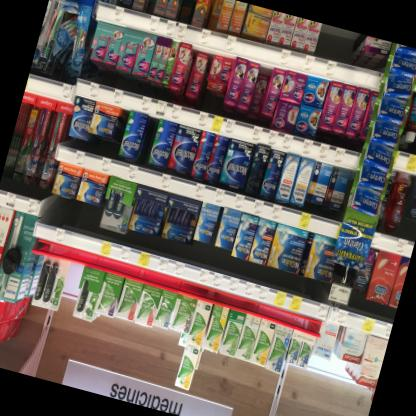empty_space: (56, 262, 84, 320), (329, 28, 364, 66), (314, 23, 337, 58)
